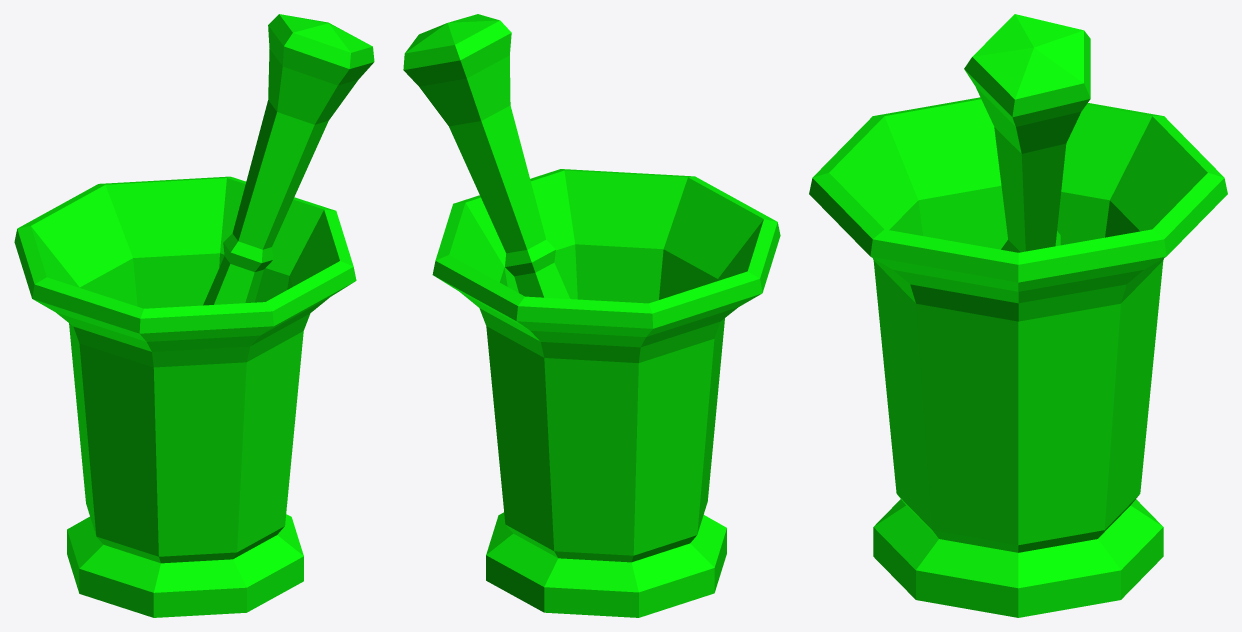
The model's file is SM_Mortar_Metal_Fantasy.fbx.
3 views of the same model, side by side, from view 1: azimuth 30°, elevation 25°; view 2: azimuth 150°, elevation 25°; view 3: azimuth 270°, elevation 25° (orthographic). The views are drawn at different scales.
Parts seen in each view (by area): view 1: mortar-metal-fantasy; view 2: mortar-metal-fantasy; view 3: mortar-metal-fantasy.
Boxes of the visible parts, x1,y1,x2,y2 form: mortar-metal-fantasy: (14,14,374,617); mortar-metal-fantasy: (403,14,780,617); mortar-metal-fantasy: (809,14,1227,617).
Size of the model in its own units: 0.1919 by 0.2755 by 0.1732.
